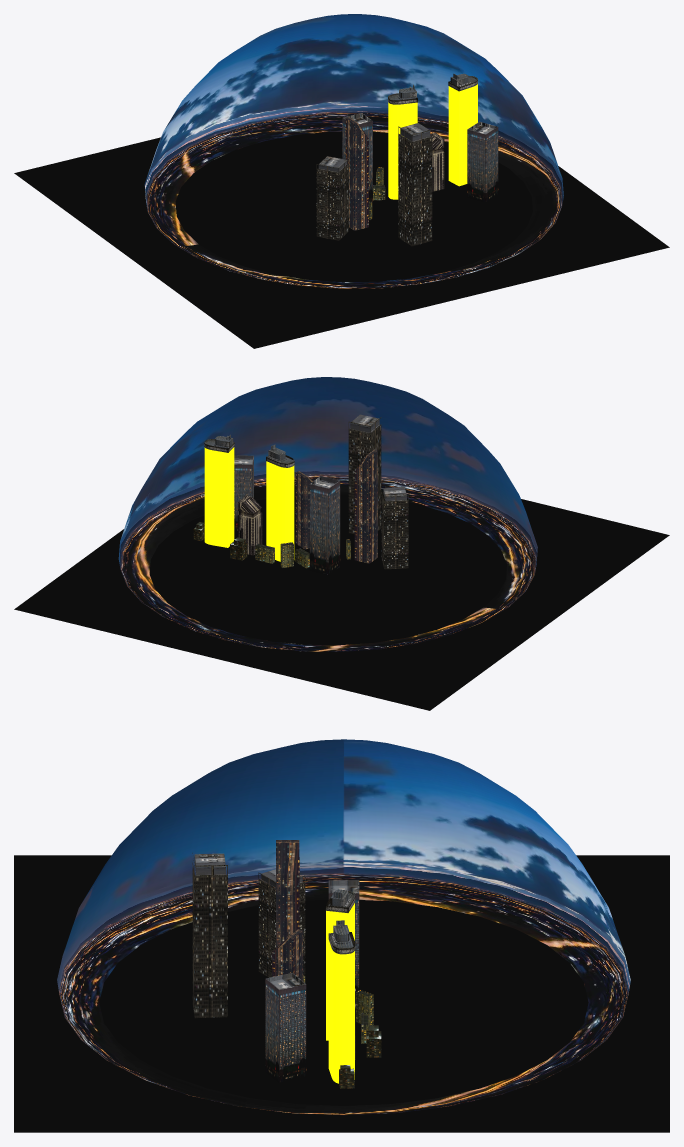
The model's file is city.glb.
The picture shows the model from 3 angles, top to bottom: view 1: azimuth 30°, elevation 25°; view 2: azimuth 150°, elevation 25°; view 3: azimuth 270°, elevation 25°; orthographic projection. The views are drawn at different scales.
Visible parts, largest first — view 1: Plane, Sphere, Cube.007, Cube.003, Cube, Cube.008, Cube.006, Cube.001, Cube.002, Cube.005; view 2: Plane, Sphere, Cube.003, Cube.002, Cube.001, Cube.006, Cube, Cube.007, Cube.005, Cube.004, Cube.008; view 3: Plane, Sphere, Cube.007, Cube.008, Cube.003, Cube.006, Cube, Cube.001, Cube.004, Cube.002.
Part boxes in pixels (left/top/right/bottom): Plane: left=14, top=131, right=669, bottom=348; Sphere: left=144, top=14, right=563, bottom=288; Cube.007: left=398, top=123, right=432, bottom=246; Cube.003: left=448, top=73, right=477, bottom=186; Cube: left=316, top=156, right=348, bottom=240; Cube.008: left=467, top=121, right=498, bottom=202; Cube.006: left=345, top=117, right=368, bottom=230; Cube.001: left=388, top=84, right=417, bottom=199; Cube.002: left=342, top=113, right=372, bottom=207; Cube.005: left=430, top=132, right=444, bottom=191; Plane: left=14, top=494, right=669, bottom=710; Sphere: left=118, top=377, right=537, bottom=651; Cube.003: left=204, top=434, right=234, bottom=547; Cube.002: left=309, top=476, right=340, bottom=575; Cube.001: left=266, top=444, right=294, bottom=561; Cube.006: left=354, top=450, right=377, bottom=563; Cube: left=381, top=487, right=408, bottom=569; Cube.007: left=348, top=414, right=381, bottom=534; Cube.005: left=238, top=495, right=262, bottom=555; Cube.004: left=295, top=471, right=313, bottom=549; Cube.008: left=234, top=455, right=253, bottom=532; Plane: left=14, top=855, right=669, bottom=1132; Sphere: left=57, top=739, right=630, bottom=1115; Cube.007: left=192, top=853, right=227, bottom=1018; Cube.008: left=265, top=973, right=306, bottom=1082; Cube.003: left=328, top=920, right=355, bottom=1083; Cube.006: left=276, top=840, right=299, bottom=947; Cube: left=258, top=869, right=305, bottom=977; Cube.001: left=325, top=889, right=355, bottom=1040; Cube.004: left=272, top=929, right=303, bottom=981; Cube.002: left=328, top=880, right=359, bottom=991.
Size of the model in its own units: 18.61 by 7.66 by 18.61.
Materials: 11 (9 with a texture image).
